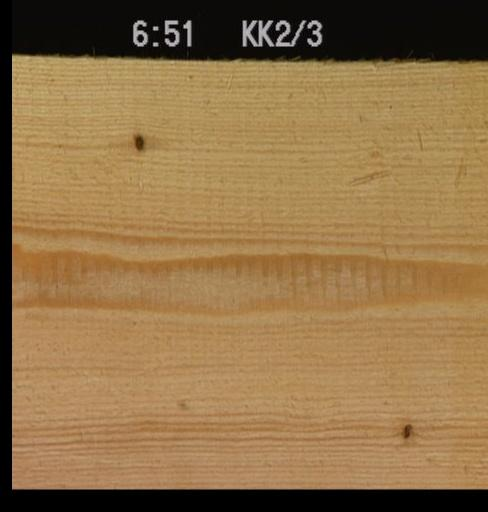dry_knot: (398, 419, 411, 439), (132, 132, 143, 152)
